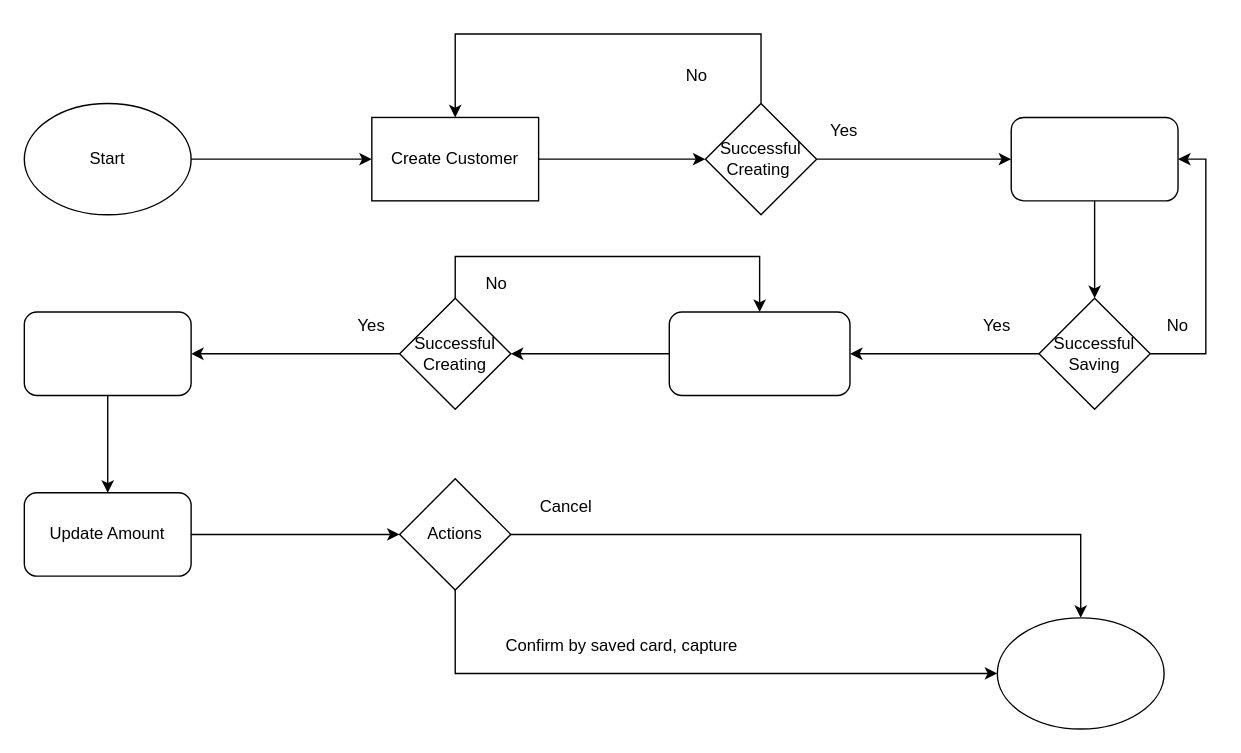
The diagram is 1241 pixels wide and 753 high, and some of its shapes have lost their labels. Here are the shapes that lost their labels. From the top down, the centre of each, then its label:
the point at 1094,158: Save Card
the point at 107,353: Open a pending sale On sale list
the point at 759,353: Create PaymentIntent
the point at 1080,672: Complete PaymentIntent
